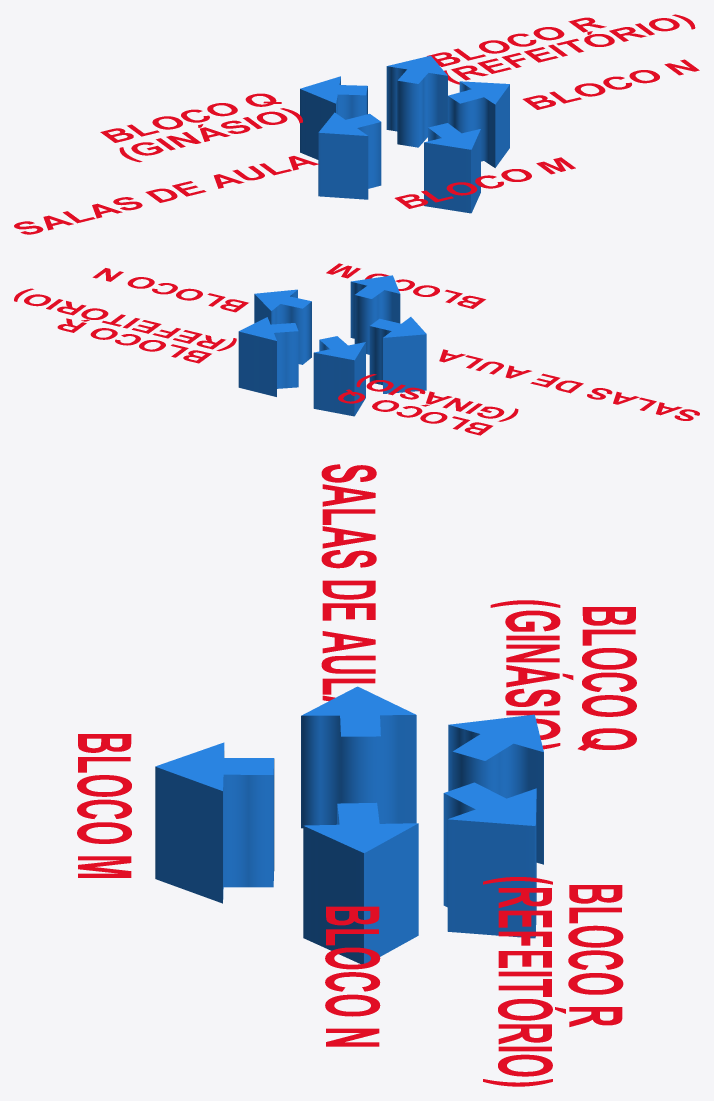
The model's file is Bloco N - 0.glb.
The picture shows the model from 3 angles, top to bottom: view 1: azimuth 30°, elevation 25°; view 2: azimuth 150°, elevation 25°; view 3: azimuth 270°, elevation 25°; orthographic projection. The views are drawn at different scales.
Parts seen in each view (by area): view 1: Curve.002, Curve.001, Curve.004, Curve.005, Curve.003, Text.012, Text.005, Text.014, Text.001, Text.002, Text.003, Text.004; view 2: Curve.001, Curve.002, Curve.003, Curve.004, Curve.005, Text.012, Text.005, Text.014, Text.002, Text.004, Text.003, Text.001; view 3: Curve.004, Curve.005, Curve.002, Curve.001, Curve.003, Text.005, Text.012, Text.014, Text.001, Text.002, Text.003, Text.004.
Part boxes in pixels (<box>): Curve.002: <box>318,112,381,199</box>; Curve.001: <box>386,55,447,147</box>; Curve.004: <box>424,123,480,213</box>; Curve.005: <box>448,81,509,167</box>; Curve.003: <box>300,76,367,159</box>; Text.012: <box>14,156,318,234</box>; Text.005: <box>444,14,695,84</box>; Text.014: <box>119,108,302,162</box>; Text.001: <box>394,157,575,208</box>; Text.002: <box>100,93,281,142</box>; Text.003: <box>522,59,699,109</box>; Text.004: <box>427,17,606,66</box>; Curve.001: <box>238,317,298,396</box>; Curve.002: <box>369,317,426,393</box>; Curve.003: <box>313,336,365,416</box>; Curve.004: <box>350,275,400,354</box>; Curve.005: <box>254,289,311,364</box>; Text.012: <box>439,349,699,420</box>; Text.005: <box>14,288,236,351</box>; Text.014: <box>356,374,518,421</box>; Text.002: <box>338,389,492,435</box>; Text.004: <box>57,318,211,363</box>; Text.003: <box>92,268,248,312</box>; Text.001: <box>326,263,485,308</box>; Curve.004: <box>155,742,274,903</box>; Curve.005: <box>303,802,418,963</box>; Curve.002: <box>301,686,416,828</box>; Curve.001: <box>443,782,536,938</box>; Curve.003: <box>448,714,543,864</box>; Text.005: <box>483,877,565,1086</box>; Text.012: <box>321,464,376,701</box>; Text.014: <box>490,600,573,749</box>; Text.001: <box>77,734,131,877</box>; Text.002: <box>578,607,636,750</box>; Text.003: <box>325,906,380,1046</box>; Text.004: <box>568,885,623,1026</box>.
Bounding box in the file's own units: 4.14 × 0.3599 × 1.58.
